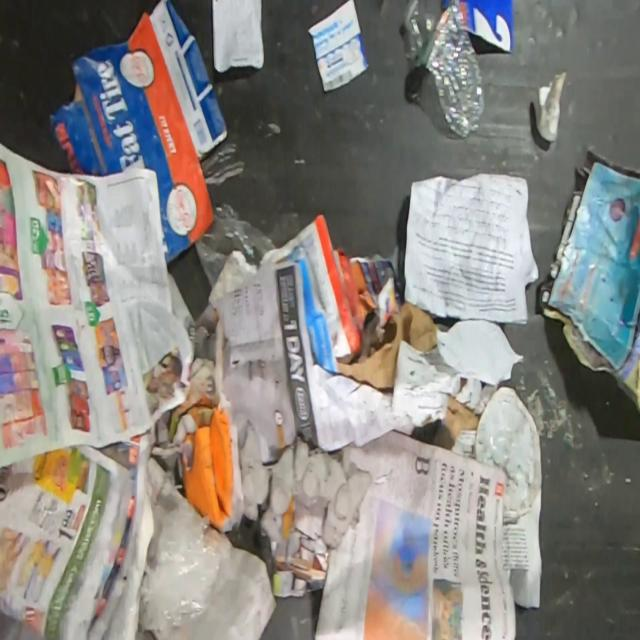cardboard: (49, 0, 228, 264)
rigid_plastic: (402, 0, 486, 138)
soft_plastic: (136, 499, 220, 633), (474, 387, 535, 511), (194, 202, 276, 291)
